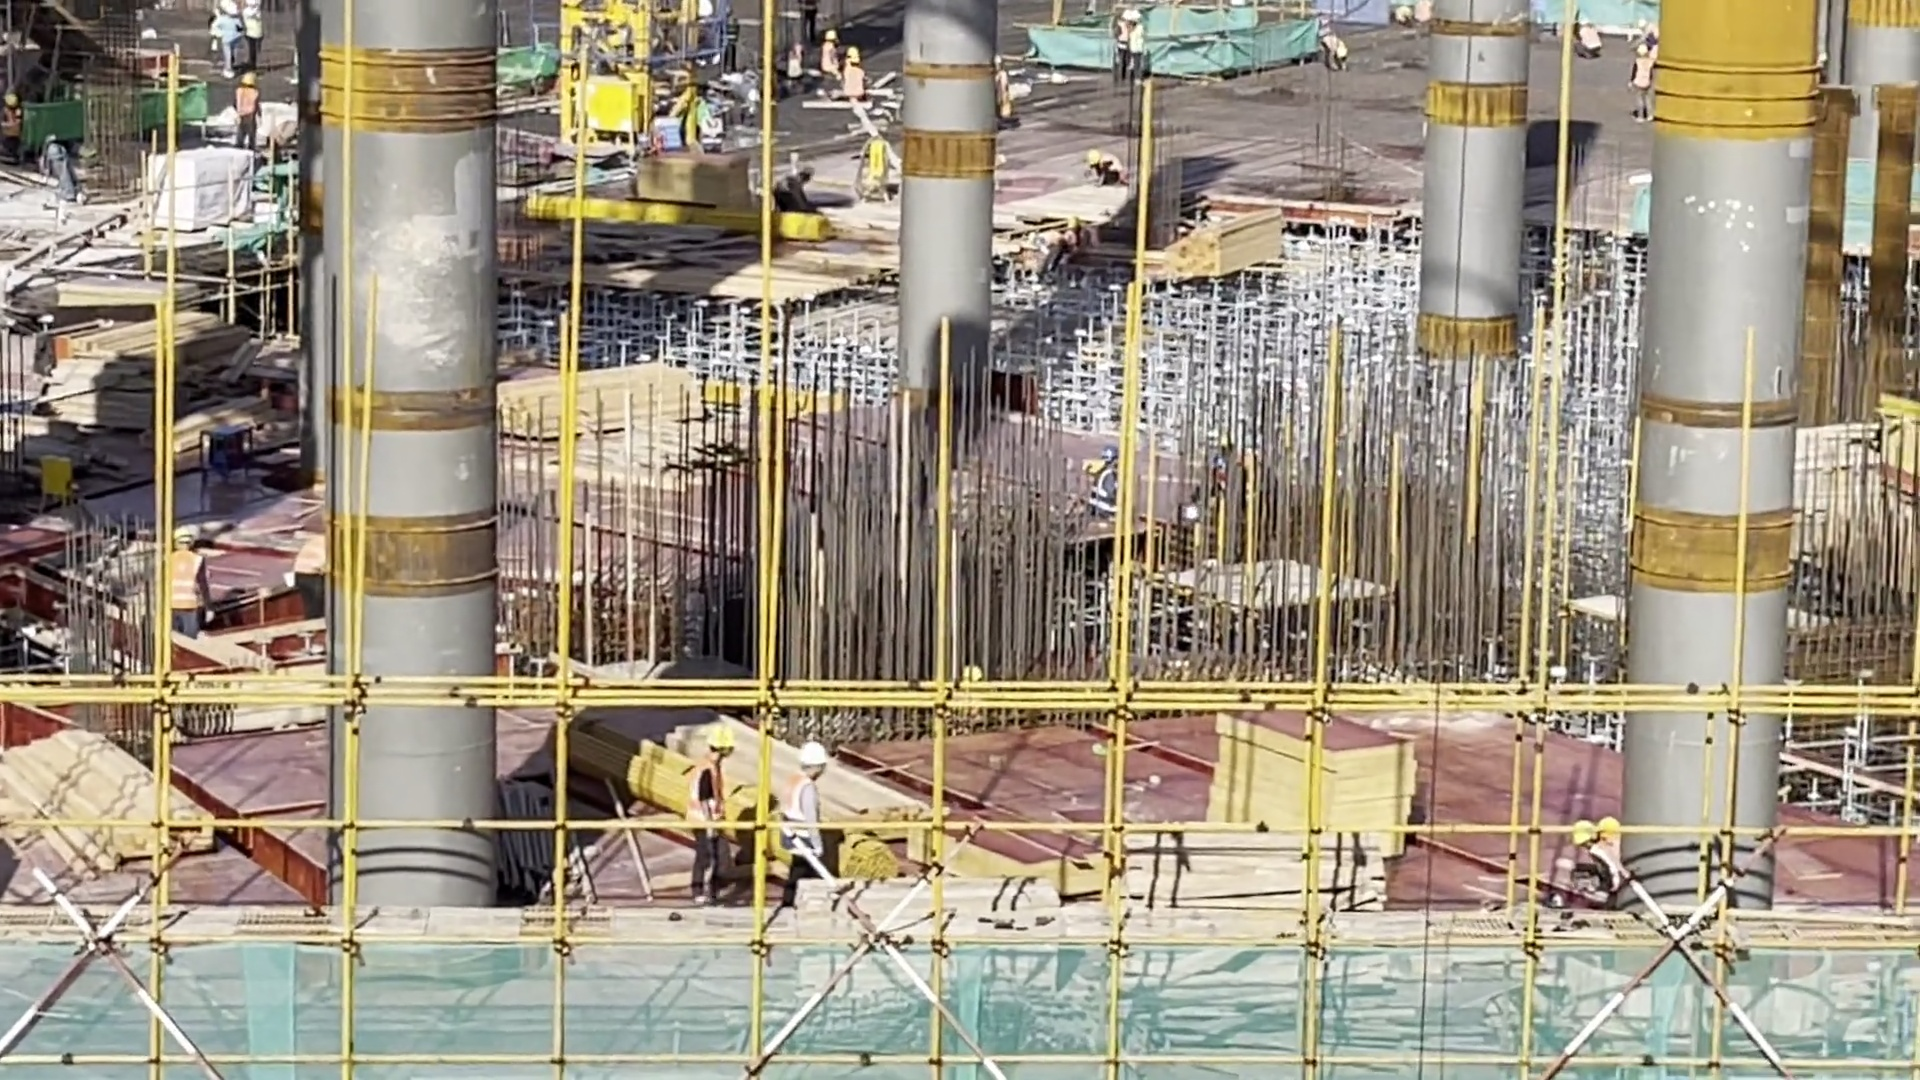board: (1216, 710, 1420, 837), (61, 318, 244, 423)
helmet: (801, 739, 824, 765), (706, 730, 736, 749)
person: (685, 726, 738, 912), (774, 746, 835, 889), (232, 65, 267, 143)
vest: (776, 769, 824, 849), (689, 764, 730, 841)
wood: (6, 723, 213, 881), (511, 357, 708, 433), (1151, 211, 1290, 287)
